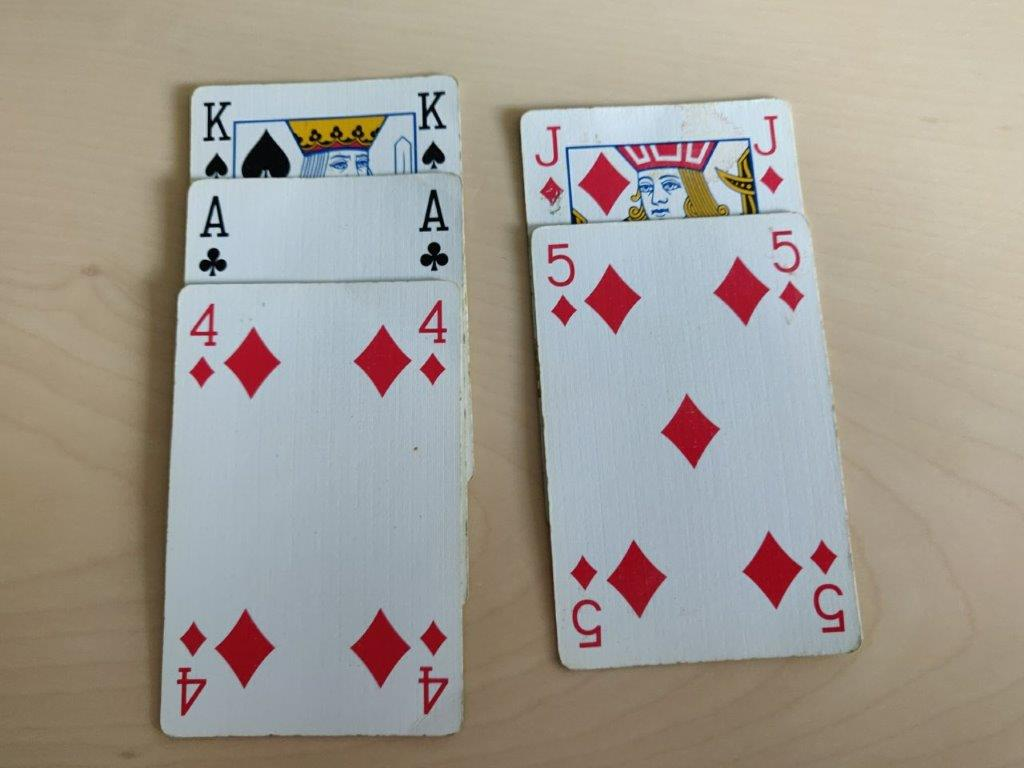4D: (187, 299, 220, 398), (417, 293, 450, 392)
5D: (540, 237, 581, 332), (767, 221, 808, 316)
AC: (195, 190, 231, 279), (416, 185, 452, 274)
JD: (529, 120, 565, 210), (752, 111, 788, 201)
KS: (412, 85, 450, 173), (200, 95, 238, 183)
